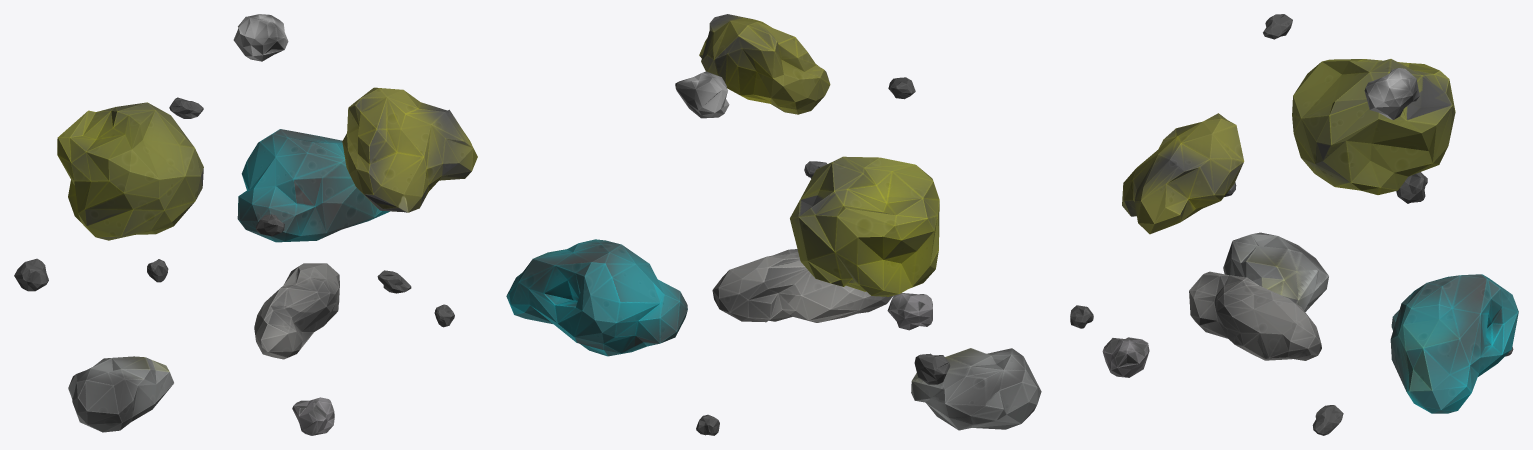
File: asteroid1 (1).fbx
3 views of the same model, side by side, from view 1: azimuth 30°, elevation 25°; view 2: azimuth 150°, elevation 25°; view 3: azimuth 270°, elevation 25° (orthographic). The views are drawn at different scales.
Parts seen in each view (by area): view 1: Asteroids_Mesh.013, Asteroids_Mesh.010, Asteroids_Mesh.008, Asteroids_Mesh.001, Asteroids_Mesh.011, Asteroids_Mesh.009, Asteroids_Mesh.004, Asteroids_Mesh.002, Asteroids_Mesh.006, Asteroids_Mesh.012, Asteroids_Mesh.007; view 2: Asteroids_Mesh.013, Asteroids_Mesh.008, Asteroids_Mesh.010, Asteroids_Mesh.011, Asteroids_Mesh.001, Asteroids_Mesh.009, Asteroids_Mesh.004, Asteroids_Mesh.002; view 3: Asteroids_Mesh.013, Asteroids_Mesh.008, Asteroids_Mesh.010, Asteroids_Mesh.011, Asteroids_Mesh.001, Asteroids_Mesh.009, Asteroids_Mesh.004, Asteroids_Mesh.002, Asteroids_Mesh.006, Asteroids_Mesh.012, Asteroids_Mesh.005.
Boxes of the visible parts, x1=… form: Asteroids_Mesh.013: x1=57, y1=102, x2=203, y2=240; Asteroids_Mesh.010: x1=342, y1=87, x2=477, y2=212; Asteroids_Mesh.008: x1=237, y1=129, x2=389, y2=242; Asteroids_Mesh.001: x1=68, y1=356, x2=173, y2=432; Asteroids_Mesh.011: x1=254, y1=263, x2=339, y2=359; Asteroids_Mesh.009: x1=233, y1=14, x2=288, y2=61; Asteroids_Mesh.004: x1=292, y1=397, x2=334, y2=435; Asteroids_Mesh.002: x1=14, y1=258, x2=48, y2=291; Asteroids_Mesh.006: x1=377, y1=270, x2=411, y2=293; Asteroids_Mesh.012: x1=169, y1=97, x2=203, y2=118; Asteroids_Mesh.007: x1=255, y1=214, x2=284, y2=236; Asteroids_Mesh.013: x1=790, y1=156, x2=939, y2=296; Asteroids_Mesh.008: x1=506, y1=239, x2=687, y2=356; Asteroids_Mesh.010: x1=699, y1=14, x2=830, y2=114; Asteroids_Mesh.011: x1=712, y1=249, x2=892, y2=322; Asteroids_Mesh.001: x1=911, y1=348, x2=1041, y2=430; Asteroids_Mesh.009: x1=675, y1=71, x2=729, y2=118; Asteroids_Mesh.004: x1=887, y1=293, x2=932, y2=330; Asteroids_Mesh.002: x1=914, y1=353, x2=950, y2=384; Asteroids_Mesh.013: x1=1292, y1=59, x2=1455, y2=194; Asteroids_Mesh.008: x1=1390, y1=274, x2=1518, y2=413; Asteroids_Mesh.010: x1=1122, y1=113, x2=1244, y2=234; Asteroids_Mesh.011: x1=1189, y1=271, x2=1321, y2=360; Asteroids_Mesh.001: x1=1223, y1=232, x2=1328, y2=311; Asteroids_Mesh.009: x1=1364, y1=68, x2=1419, y2=120; Asteroids_Mesh.004: x1=1102, y1=337, x2=1149, y2=377; Asteroids_Mesh.002: x1=1396, y1=172, x2=1427, y2=203; Asteroids_Mesh.006: x1=1312, y1=405, x2=1343, y2=435; Asteroids_Mesh.012: x1=1263, y1=14, x2=1292, y2=39; Asteroids_Mesh.005: x1=1070, y1=305, x2=1093, y2=328.
Size of the model in its own units: 2066 by 1548 by 1801.
1 material, 1 textured.
